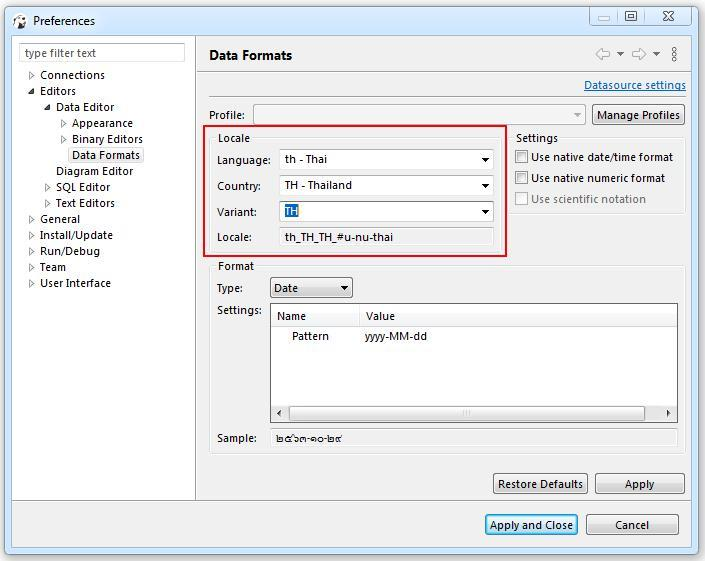button: (585, 512, 683, 537), (592, 103, 687, 127), (486, 514, 581, 537), (493, 473, 591, 495), (595, 474, 689, 496)
checkbox: (516, 193, 530, 206), (516, 151, 529, 164), (517, 173, 530, 185)
dropdown: (255, 105, 587, 127), (280, 176, 495, 199), (281, 202, 496, 224), (282, 150, 494, 172), (270, 277, 355, 300)
icon: (593, 47, 614, 64), (632, 47, 649, 68), (668, 45, 684, 67), (651, 49, 665, 64), (616, 45, 627, 62)
input: (280, 228, 494, 248)
label: (529, 149, 676, 167), (531, 173, 670, 188), (532, 194, 648, 208), (212, 147, 274, 169), (202, 105, 252, 122), (212, 230, 260, 247), (213, 205, 263, 221), (215, 178, 262, 194)
